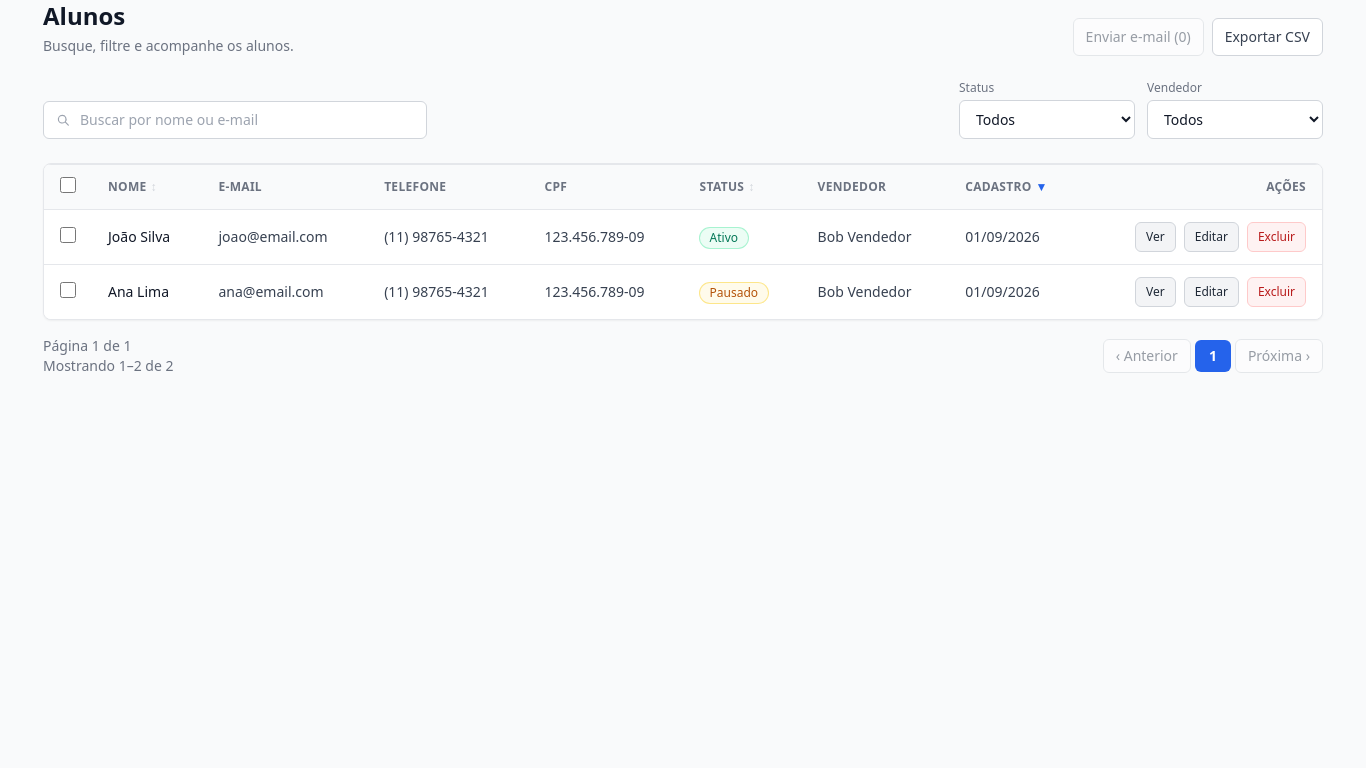
página de alunos › RBAC cosmético › admin exclui só depois de confirmar
Click the button "Excluir" in the row of "Ana Lima": [1276, 292] box [1247, 277, 1306, 307]
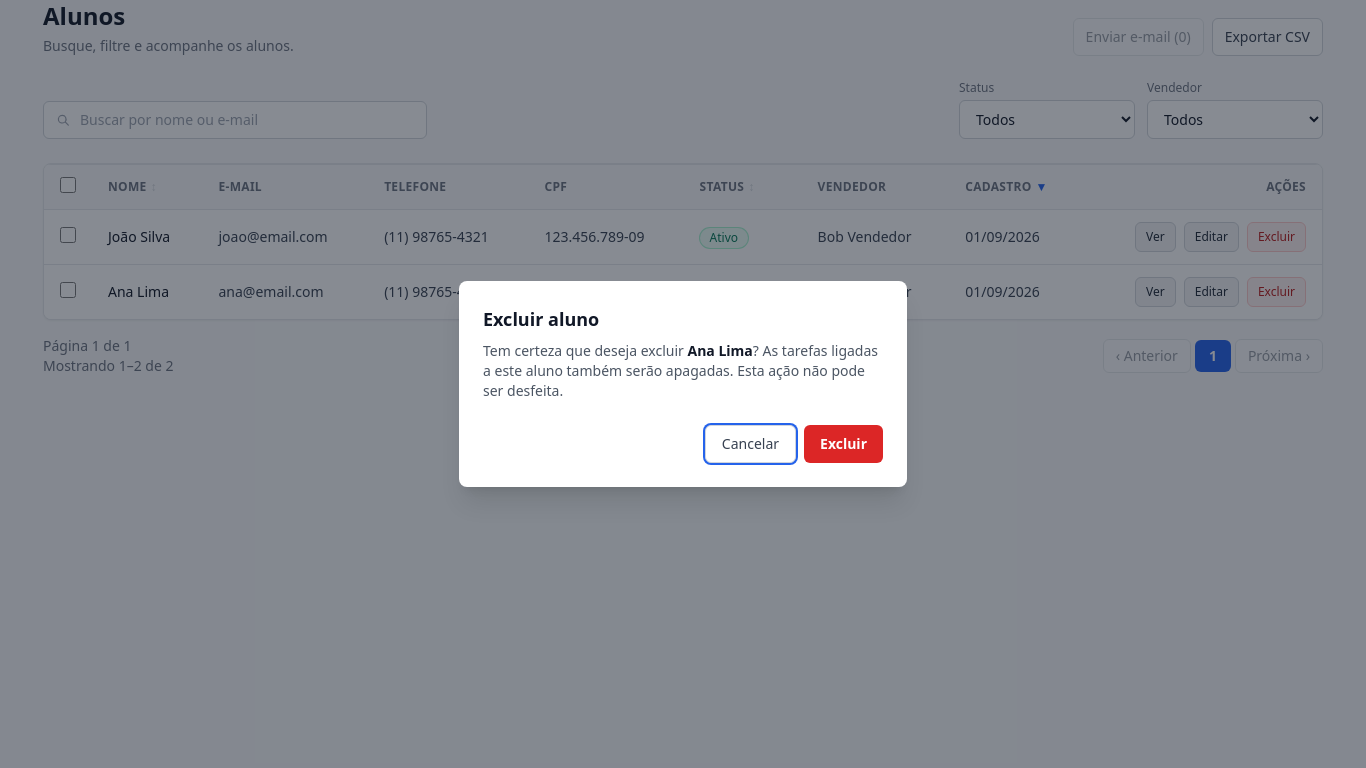
Click the button "Excluir": [844, 444] box [804, 425, 883, 463]
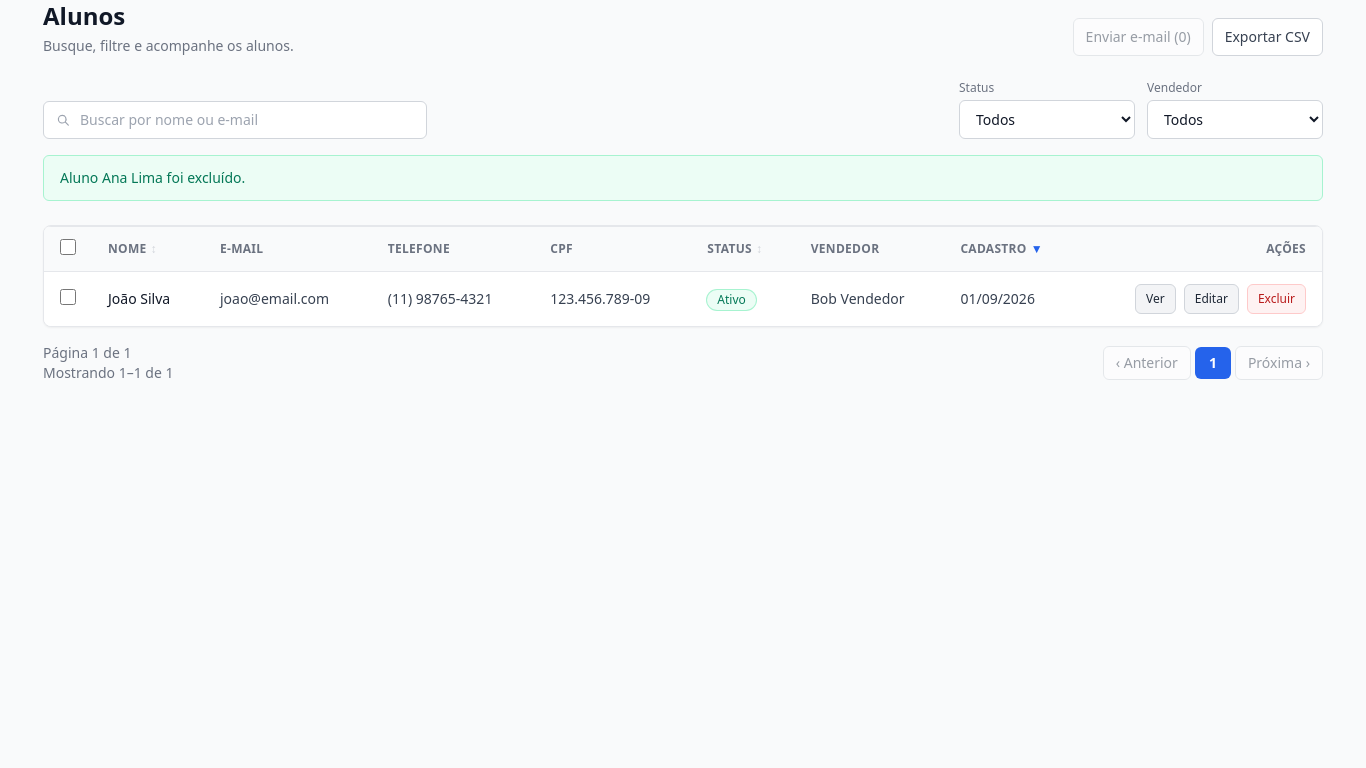
Expected: the dialog is gone
Expected: the text "Aluno Ana Lima foi excluído." is shown, [43, 155, 1323, 201]
